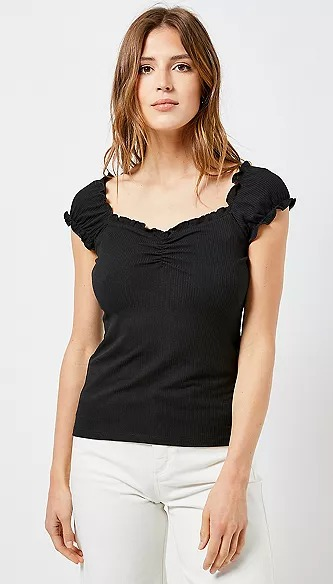S_short blouse: (61, 162, 296, 449)
